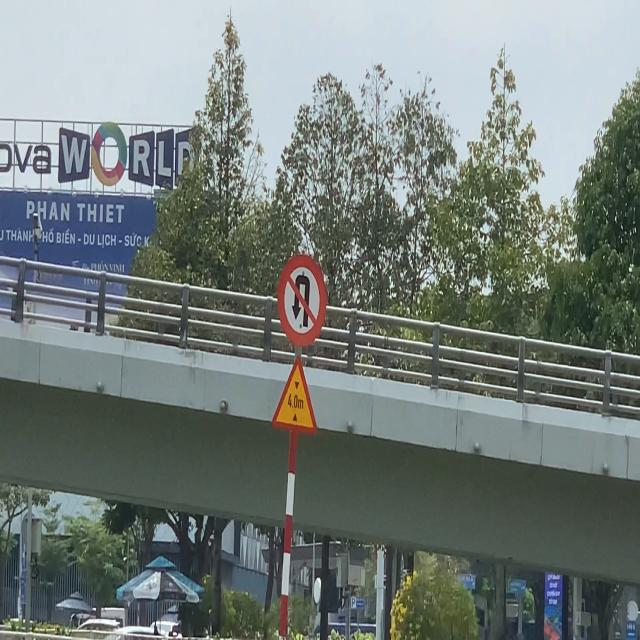Cam quay dau xe: (276, 252, 327, 348)
Nguy hiem: (269, 352, 320, 440)
